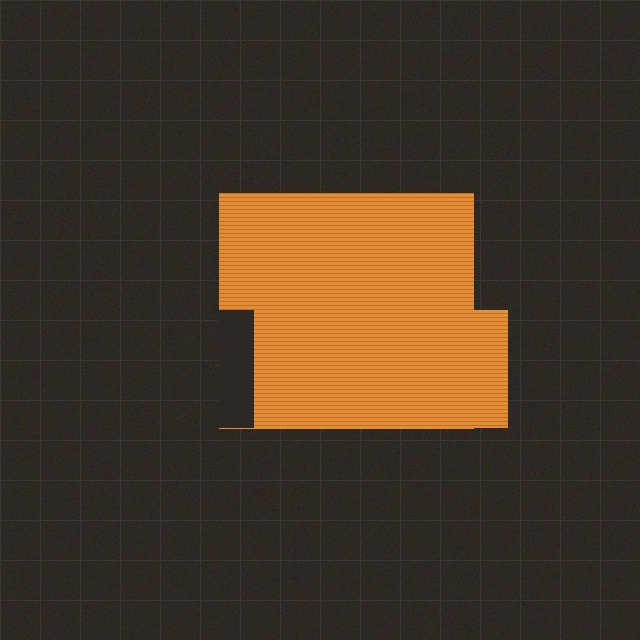layer_shift: (209, 290, 518, 330)
